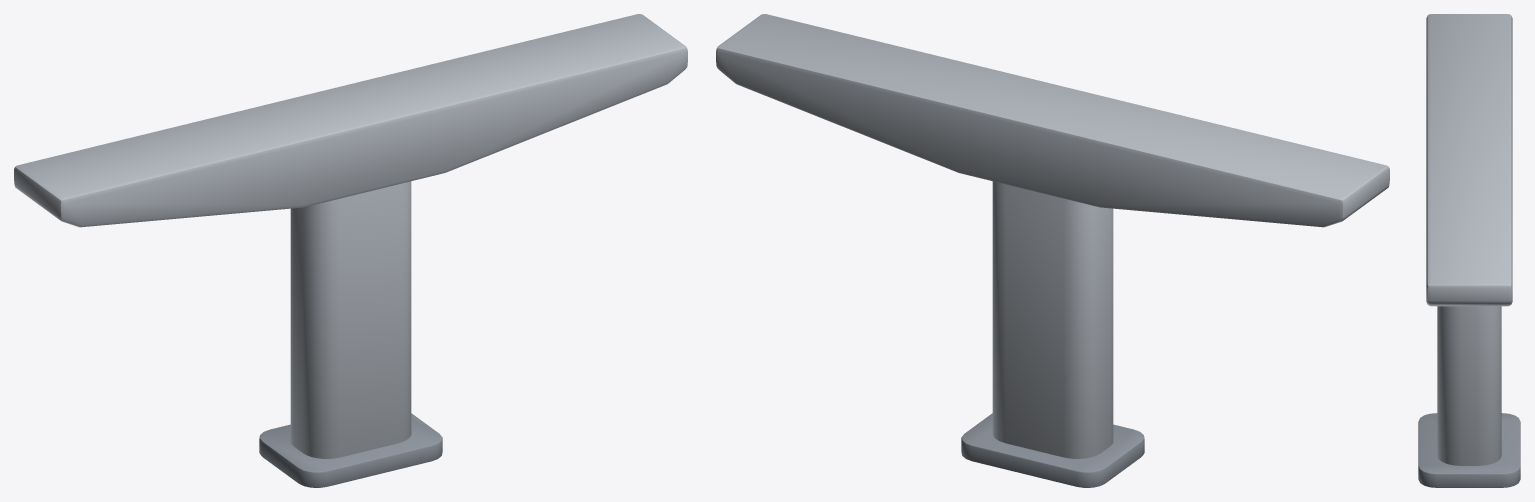
File: pilar_viaduto.glb
3 renders of one model, left to right at view 1: azimuth 30°, elevation 25°; view 2: azimuth 150°, elevation 25°; view 3: azimuth 270°, elevation 25°, orthographic. The views are drawn at different scales.
Parts seen in each view (by area): view 1: pilar_viaduto; view 2: pilar_viaduto; view 3: pilar_viaduto.
Boxes of the visible parts, x1,y1,x2,y2 form: pilar_viaduto: (14, 14, 687, 487); pilar_viaduto: (716, 14, 1389, 487); pilar_viaduto: (1418, 14, 1520, 487).
Bounding box in the file's own units: 12 × 6.34 × 1.9.
1 material, 1 textured.
